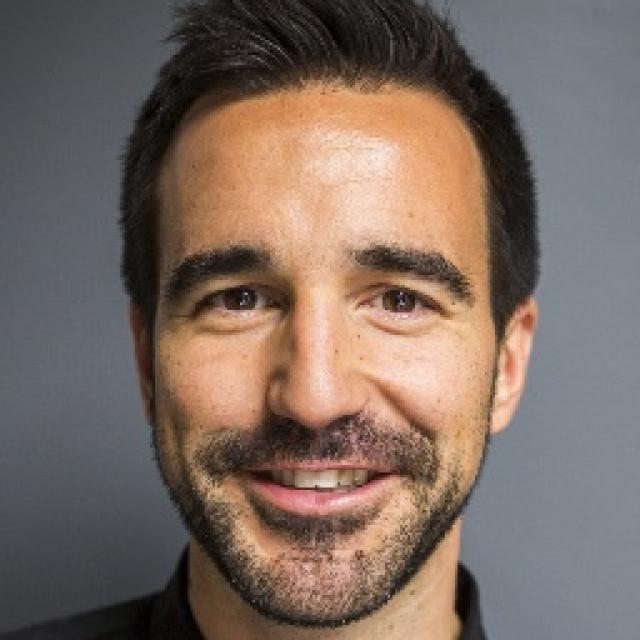earlobe: (488, 390, 522, 436)
eye: (358, 286, 439, 317), (204, 286, 278, 313)
nose: (264, 403, 372, 466)
wholeear: (488, 294, 538, 436), (126, 295, 156, 426)
